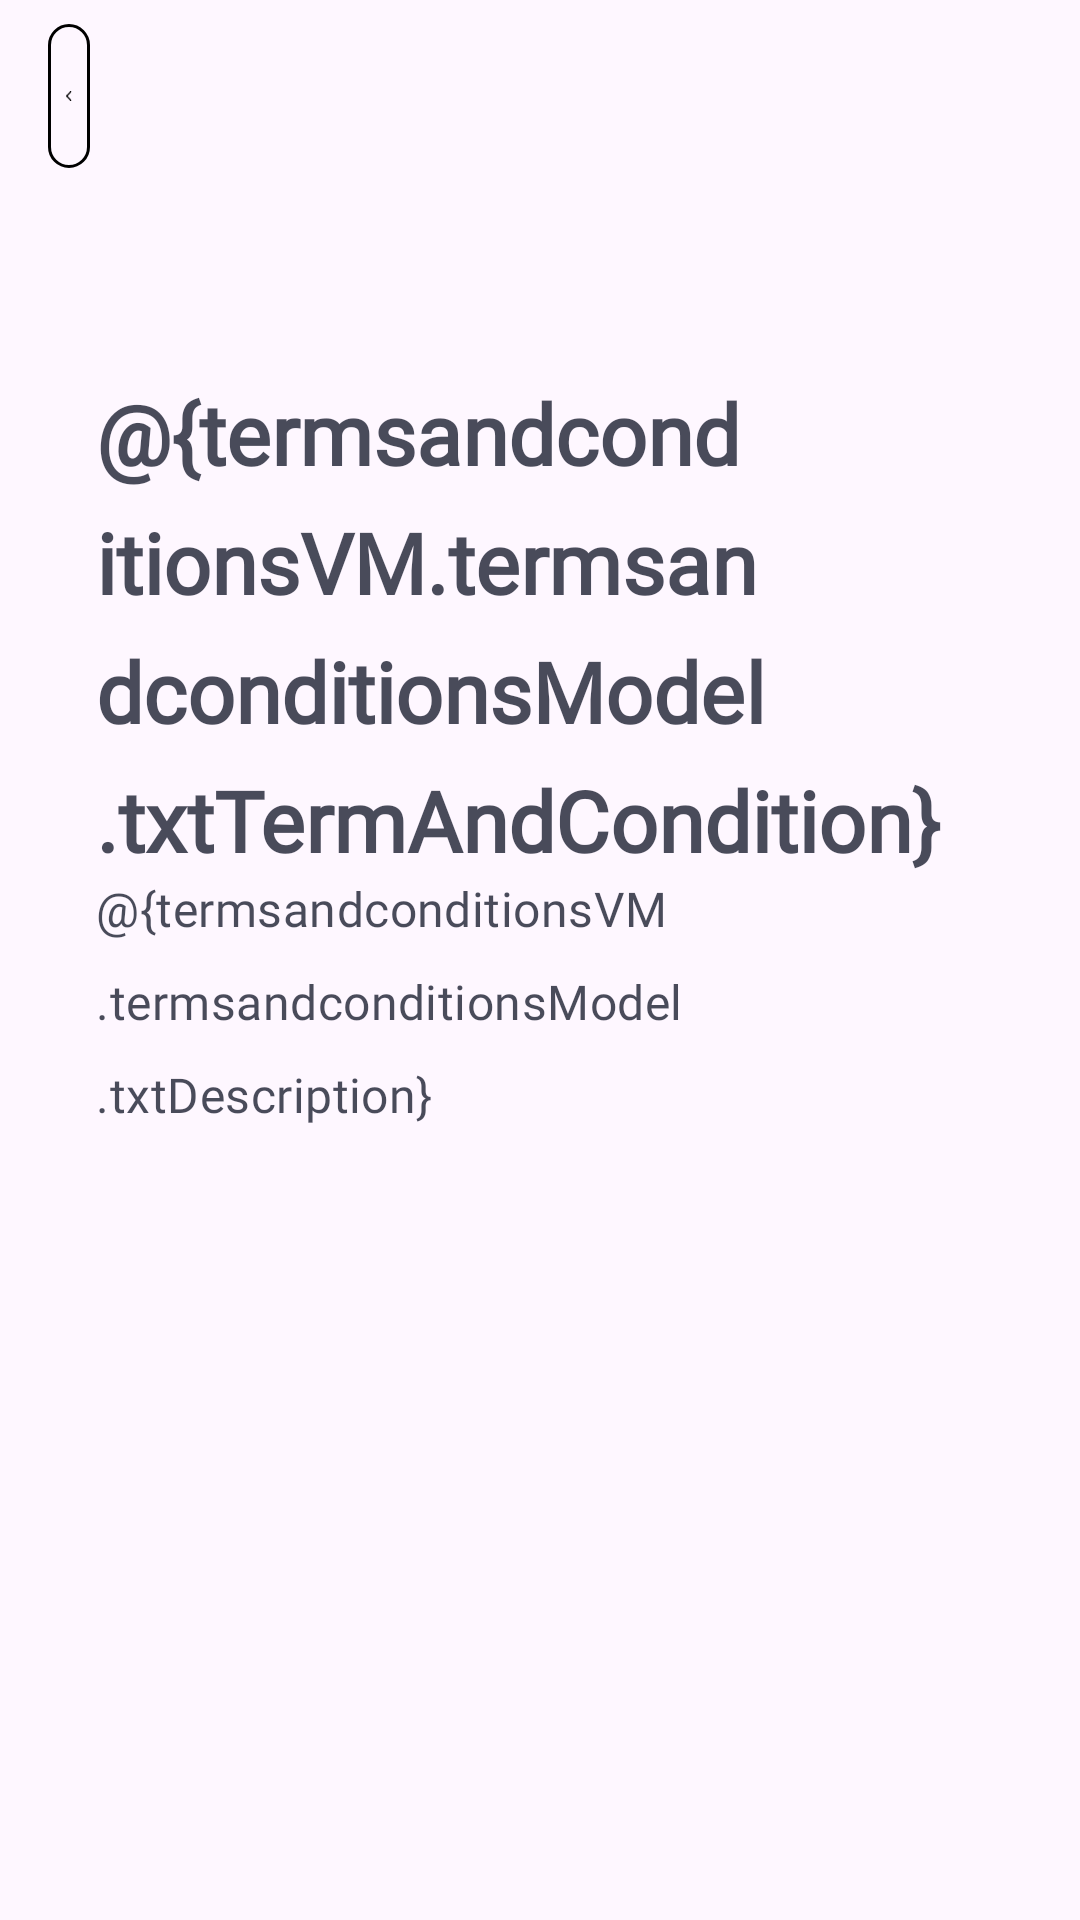

Point at icon controls on the screen. Image size 1080*1920, points as point (x, y).
arrow left: point (69, 96)
